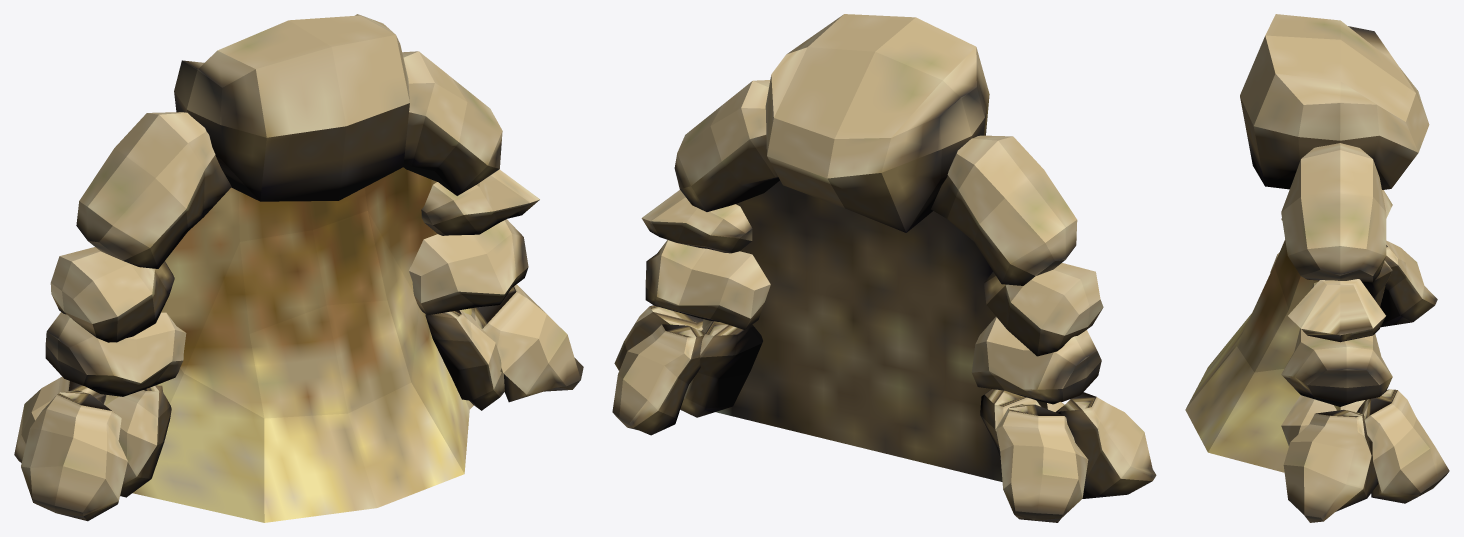
The model's file is Poly_World_Map_Entrance_02_Blocked.obj.
The picture shows the model from 3 angles, left to right: view 1: azimuth 30°, elevation 25°; view 2: azimuth 150°, elevation 25°; view 3: azimuth 270°, elevation 25°; orthographic projection. The views are drawn at different scales.
Visible parts, largest first — view 1: Grid.016, Grid.005, Grid.001, Grid.014, Grid.003, Grid.002, Grid.004, Grid.013; view 2: Grid.016, Grid.005, Grid.001, Grid.013, Grid.003, Grid.002, Grid.014, Grid.004; view 3: Grid.005, Grid.016, Grid.001, Grid.013, Grid.014, Grid.003, Grid.002, Grid.004.
Part boxes in pixels (x1,y1,x2,y2): Grid.016: (105,167,473,522); Grid.005: (174,14,409,201); Grid.001: (76,51,502,268); Grid.014: (21,284,583,521); Grid.003: (45,219,528,396); Grid.002: (50,169,539,342); Grid.004: (103,310,504,497); Grid.013: (14,376,106,462); Grid.016: (702,180,1047,481); Grid.005: (765,14,989,232); Grid.001: (674,80,1077,285); Grid.013: (612,324,1088,522); Grid.003: (645,240,1101,404); Grid.002: (641,190,1103,356); Grid.014: (614,305,1156,498); Grid.004: (680,321,1064,457); Grid.005: (1240,14,1429,189); Grid.016: (1185,239,1340,472); Grid.001: (1281,143,1386,282); Grid.013: (1357,240,1449,503); Grid.014: (1270,252,1377,522); Grid.003: (1281,190,1392,406); Grid.002: (1288,279,1385,342); Grid.004: (1281,260,1392,445).
Bounding box in the file's own units: 0.8632 × 0.6294 × 0.4027.
Materials: 1 (1 with a texture image).
